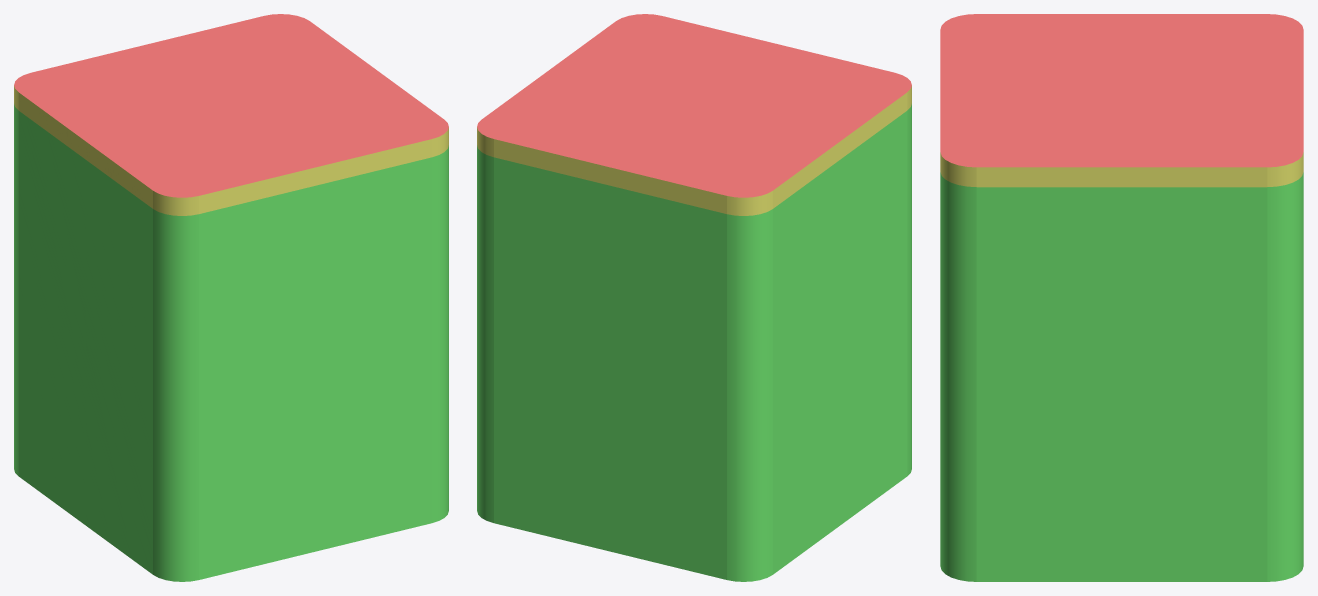
The model's file is shoptile.fbx.
The picture shows the model from 3 angles, left to right: view 1: azimuth 30°, elevation 25°; view 2: azimuth 150°, elevation 25°; view 3: azimuth 270°, elevation 25°; orthographic projection. The views are drawn at different scales.
Visible parts, largest first — view 1: SketchUp.001, SketchUp, SketchUp.002; view 2: SketchUp.001, SketchUp, SketchUp.002; view 3: SketchUp.001, SketchUp, SketchUp.002.
Boxes of the visible parts, box(x1,y1,x2,y2) form: SketchUp.001: box(14, 104, 448, 581); SketchUp: box(14, 14, 448, 197); SketchUp.002: box(14, 86, 448, 215); SketchUp.001: box(477, 104, 911, 581); SketchUp: box(477, 14, 911, 197); SketchUp.002: box(477, 86, 911, 215); SketchUp.001: box(940, 172, 1303, 581); SketchUp: box(940, 14, 1303, 167); SketchUp.002: box(940, 152, 1303, 187).
Size of the model in its own units: 500 by 630 by 500.
